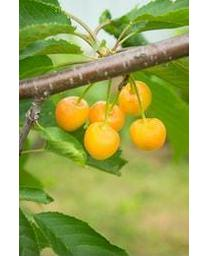cherry: (84, 122, 121, 162), (129, 118, 167, 153), (54, 95, 89, 133), (88, 100, 125, 135), (118, 79, 152, 117)
